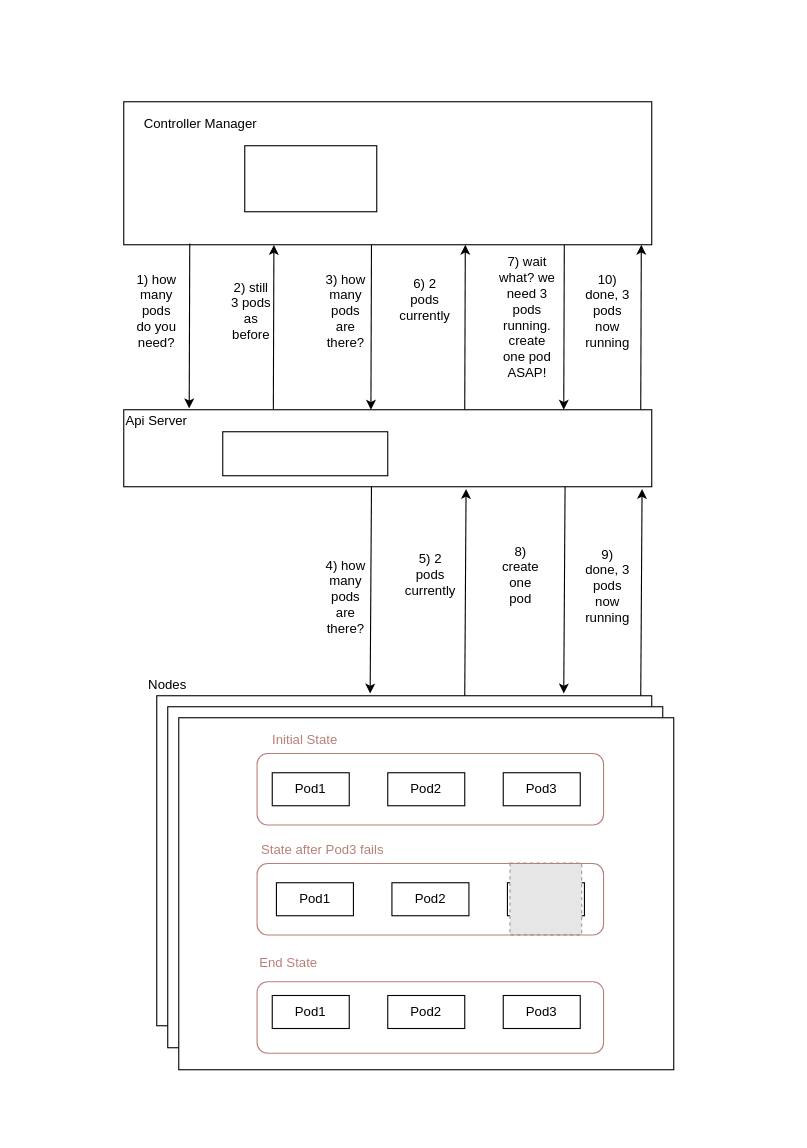
Some shapes in this 807 by 1148 pixel diagram are drawn without their labels. Grey dashed boxes stand in for pictures. Here are the shapes that lost their labels. From the top down, the centre of each, then its label:
At [310,178]: "Deployment Controller".
At [305,453]: "Deployment (with 3 pods)".
